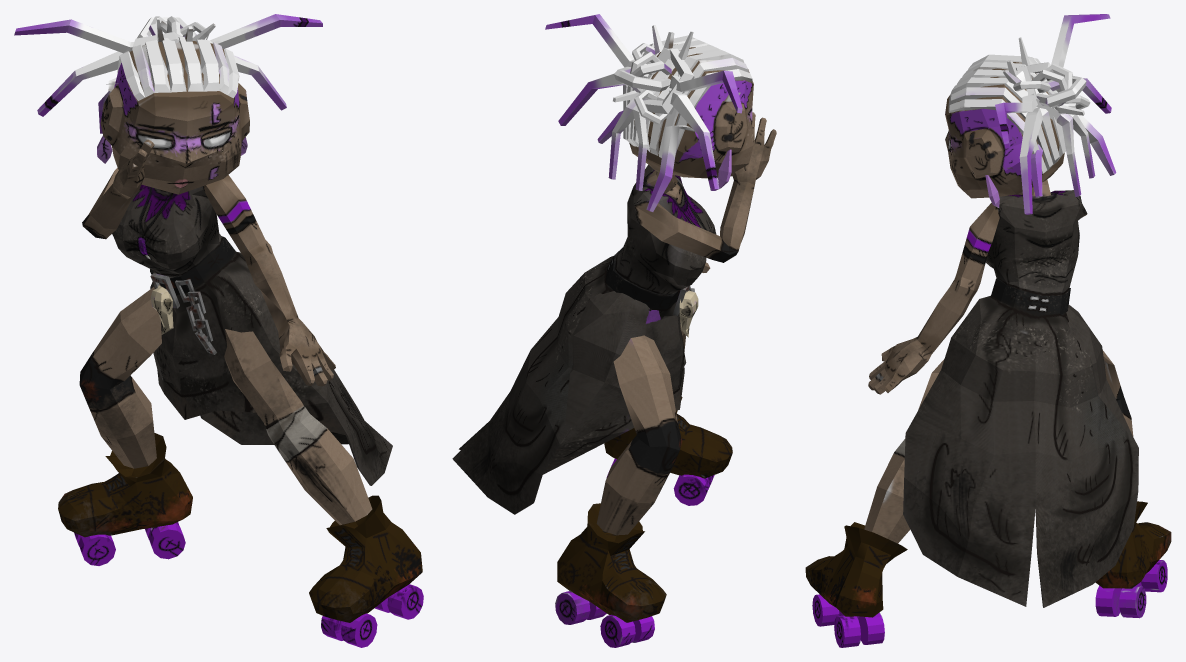
File: bruja_000052.obj
The picture shows the model from 3 angles, left to right: view 1: azimuth 30°, elevation 25°; view 2: azimuth 150°, elevation 25°; view 3: azimuth 270°, elevation 25°; orthographic projection. The views are drawn at different scales.
Parts seen in each view (by area): view 1: Bruja_Plane.001; view 2: Bruja_Plane.001; view 3: Bruja_Plane.001.
Boxes of the visible parts, x1,y1,x2,y2 form: Bruja_Plane.001: [14, 14, 423, 647]; Bruja_Plane.001: [452, 14, 776, 647]; Bruja_Plane.001: [805, 14, 1171, 647].
Size of the model in its own units: 9.24 by 15.43 by 9.25.
